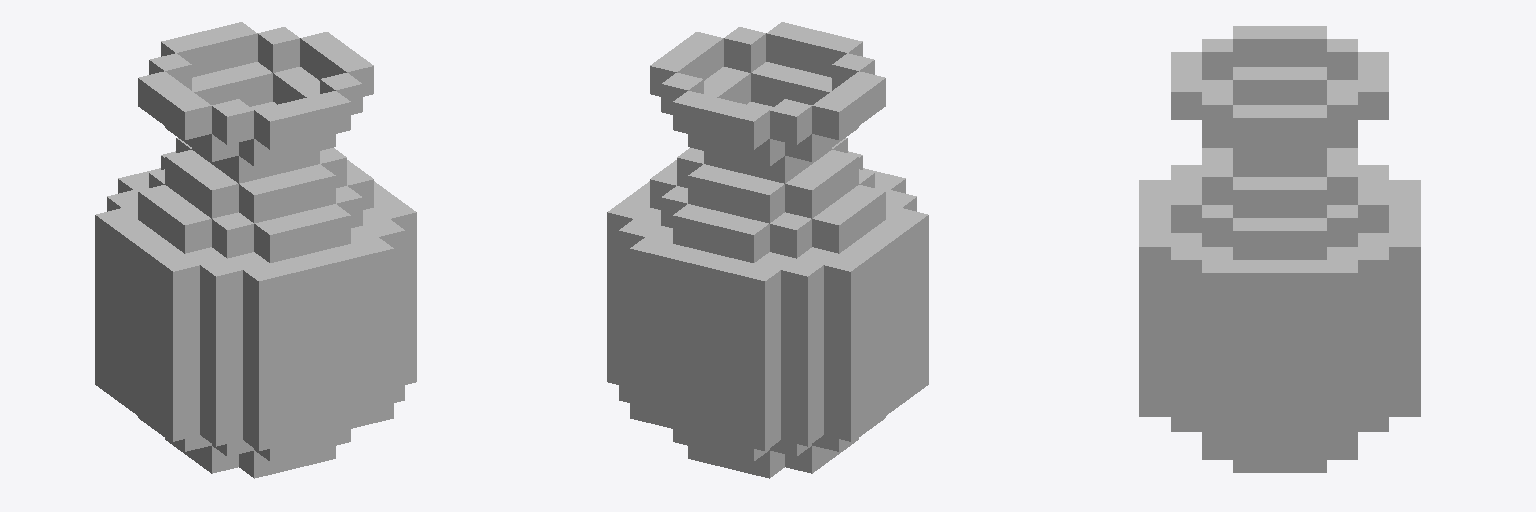
The model's file is Simple Potion.obj.
The picture shows the model from 3 angles: view 1: azimuth 30°, elevation 25°; view 2: azimuth 150°, elevation 25°; view 3: azimuth 270°, elevation 25°; orthographic projection.
Visible parts, largest first — view 1: object 1; view 2: object 1; view 3: object 1.
Part boxes in pixels (x1,y1,x2,y2): object 1: (95, 22, 416, 478); object 1: (607, 22, 928, 478); object 1: (1139, 26, 1420, 472).
Bounding box in the file's own units: 0.9 × 1.3 × 0.9.